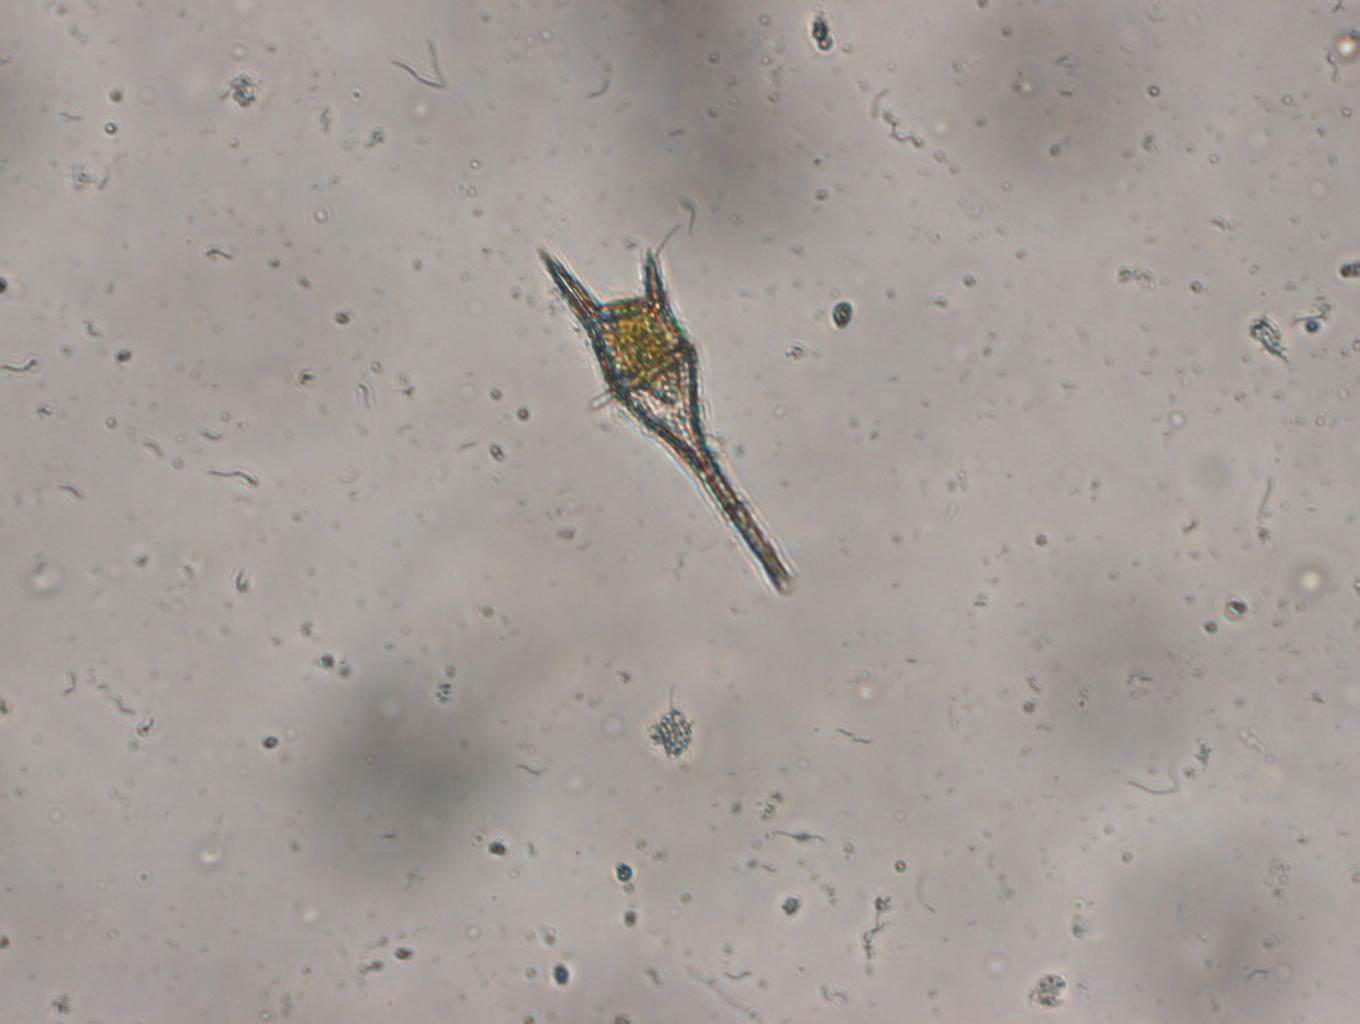ceratium furca: (532, 242, 801, 600)
